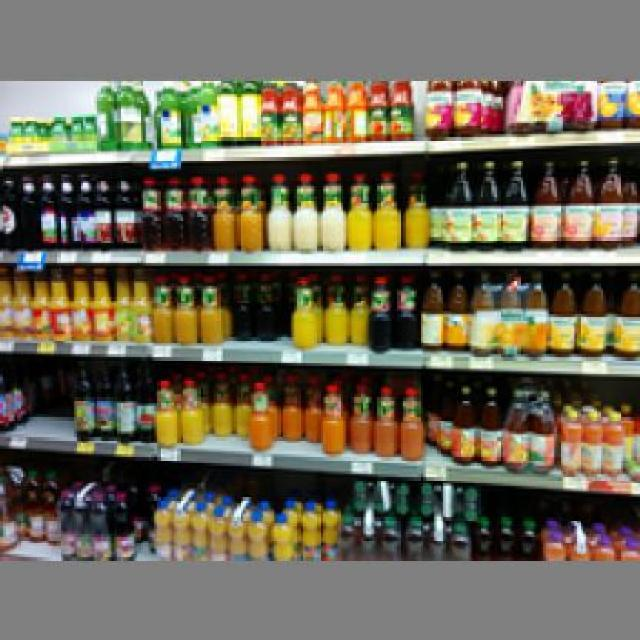Juice: (285, 274, 321, 342), (246, 377, 272, 452), (111, 77, 138, 146), (346, 168, 371, 242), (152, 372, 178, 439)
